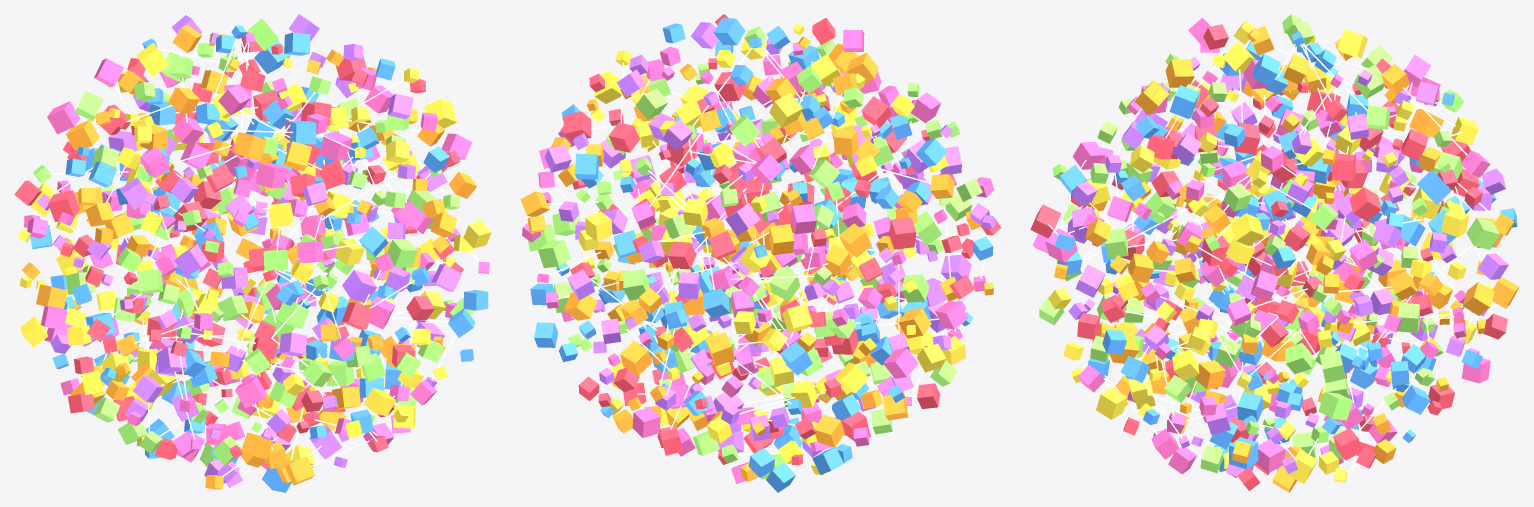
Rendered from brain_network.glb.
The picture shows the model from 3 angles, left to right: view 1: azimuth 30°, elevation 25°; view 2: azimuth 150°, elevation 25°; view 3: azimuth 270°, elevation 25°; orthographic projection.
Parts seen in each view (by area): view 1: Cube.678, Cube.719, Cube.607, Cube.425, Cube.176, Cube.095, Cube.147, Cube.001, Cube.026, Cube.350, Cube.230, Cube.695 (+42 smaller); view 2: Cube.147, Cube.402, Cube.715, Cube.698, Cube.610, Cube.683, Cube.606, Cube.001, Cube.425, Cube.064, Cube.327, Cube.252 (+46 smaller); view 3: Cube.220, Cube.480, Cube.154, Cube.571, Cube.330, Cube.176, Cube.229, Cube.360, Cube.659, Cube.695, Cube.361, Cube.051 (+34 smaller).
Part boxes in pixels (x1,y1,x2,y2): Cube.678: (342, 270, 377, 302); Cube.719: (319, 131, 352, 161); Cube.607: (255, 163, 287, 188); Cube.425: (47, 101, 80, 134); Cube.176: (233, 132, 266, 160); Cube.095: (387, 239, 417, 267); Cube.147: (48, 190, 79, 222); Cube.001: (66, 120, 99, 150); Cube.026: (235, 376, 266, 408); Cube.350: (342, 302, 373, 329); Cube.230: (174, 244, 208, 277); Cube.695: (290, 121, 316, 144); Cube.147: (889, 217, 916, 249); Cube.402: (769, 93, 802, 127); Cube.715: (620, 341, 651, 375); Cube.698: (883, 348, 918, 378); Cube.610: (814, 415, 844, 447); Cube.683: (769, 266, 800, 301); Cube.606: (537, 240, 570, 267); Cube.001: (768, 224, 794, 255); Cube.425: (790, 204, 816, 234); Cube.064: (839, 223, 871, 257); Cube.327: (632, 407, 660, 437); Cube.252: (608, 122, 639, 152); Cube.220: (1230, 213, 1264, 245); Cube.480: (1466, 217, 1499, 249); Cube.154: (1349, 187, 1381, 221); Cube.571: (1318, 392, 1352, 420); Cube.330: (1462, 282, 1494, 315); Cube.176: (1165, 59, 1194, 87); Cube.229: (1255, 439, 1284, 473); Cube.360: (1096, 387, 1127, 419); Cube.659: (1195, 360, 1225, 389); Cube.695: (1169, 85, 1199, 119); Cube.361: (1285, 343, 1311, 374); Cube.051: (1417, 169, 1451, 204).
Size of the model in its own units: 8.17 by 8.18 by 8.29.
